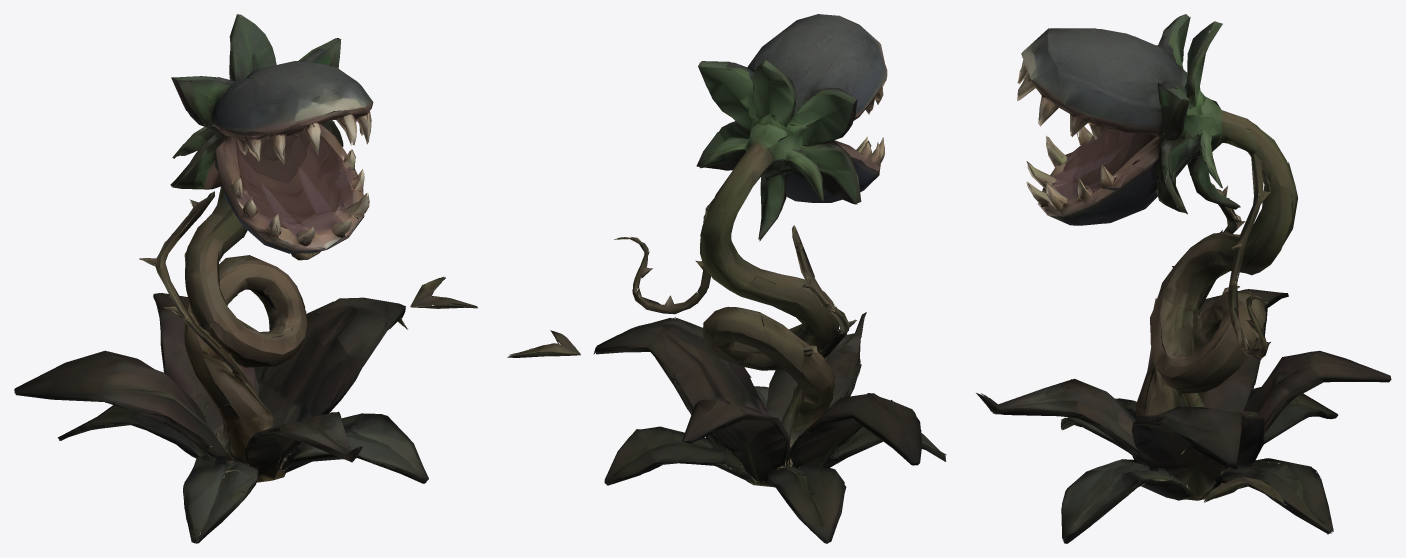
File: mesh_snapvine_a.glb
3 views of the same model, side by side, from view 1: azimuth 30°, elevation 25°; view 2: azimuth 150°, elevation 25°; view 3: azimuth 270°, elevation 25° (orthographic). The views are drawn at different scales.
Parts seen in each view (by area): view 1: mesh_snapvine_a__Mesh_0; view 2: mesh_snapvine_a__Mesh_0; view 3: mesh_snapvine_a__Mesh_0.
Part boxes in pixels (left/top/right/bottom): mesh_snapvine_a__Mesh_0: left=14, top=14, right=477, bottom=543; mesh_snapvine_a__Mesh_0: left=507, top=14, right=946, bottom=543; mesh_snapvine_a__Mesh_0: left=976, top=14, right=1391, bottom=543.
Bounding box in the file's own units: 4.8 × 4.74 × 3.82.
Materials: 1 (1 with a texture image).
